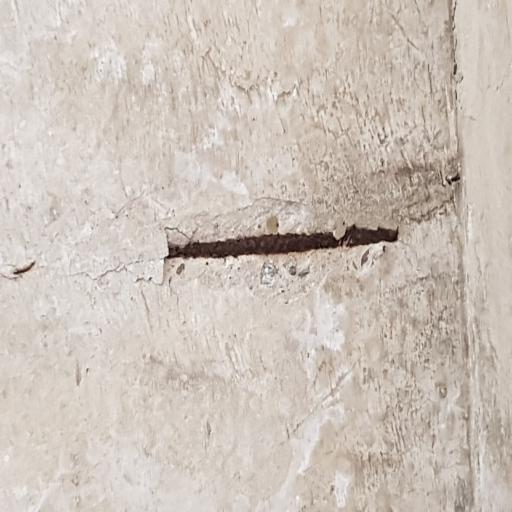exposed_rebar: (169, 226, 398, 258)
